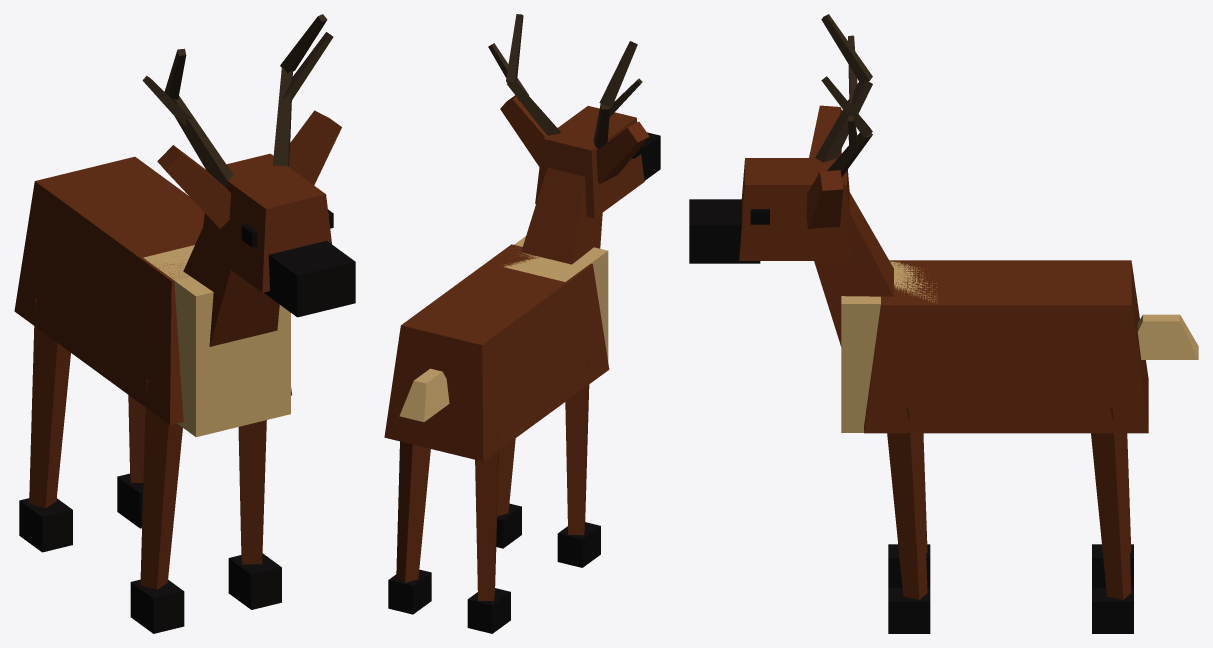
Rendered from deer.fbx.
3 renders of one model, left to right at view 1: azimuth 30°, elevation 25°; view 2: azimuth 150°, elevation 25°; view 3: azimuth 270°, elevation 25°, orthographic. The views are drawn at different scales.
Visible parts, largest first — view 1: deer; view 2: deer; view 3: deer.
Part boxes in pixels (box(x1,y1,x2,y2)): deer: box(14, 14, 355, 633); deer: box(384, 14, 660, 633); deer: box(689, 14, 1198, 633).
Size of the model in its own units: 61.53 by 191 by 157.
